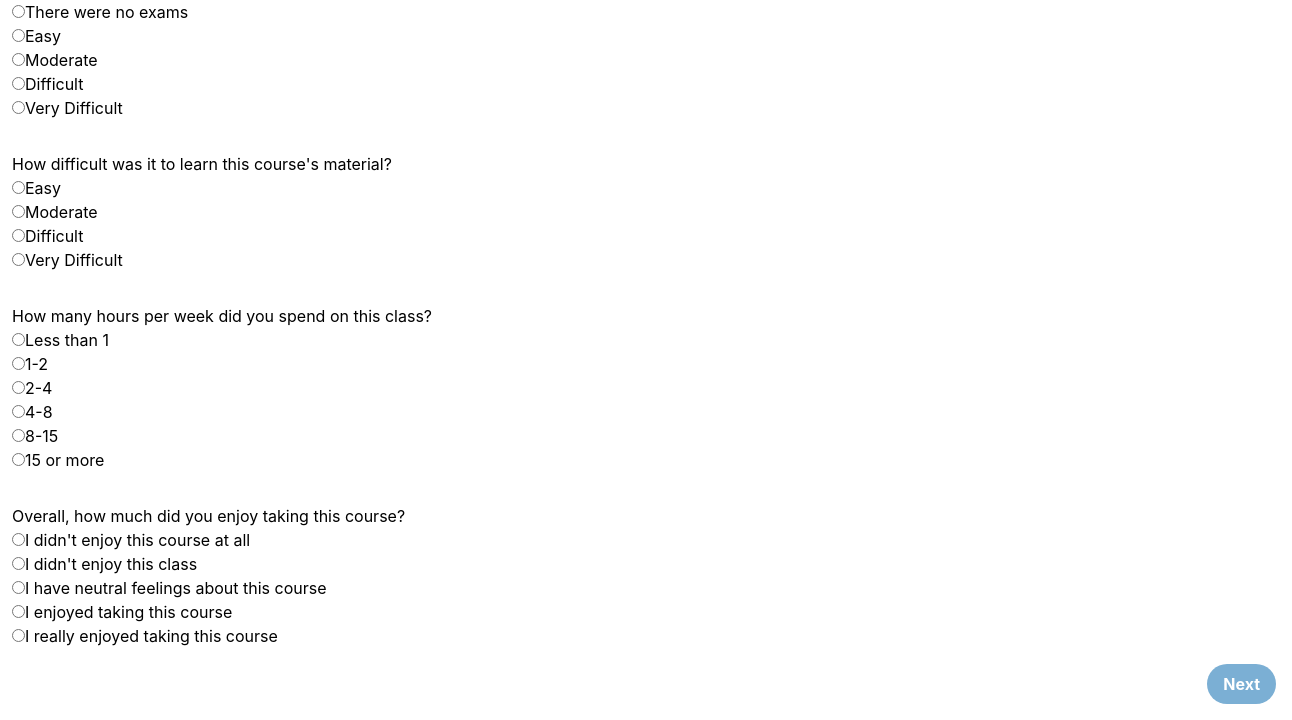
CreateReview Components Tests › Render page three
(page scrolled)
What coordinates should you click on to do the following:
click the button with test id "ReviewNextButton1"
I would click on:
 (1242, 684)
Its box is [1207,664,1276,704].
(page scrolled)
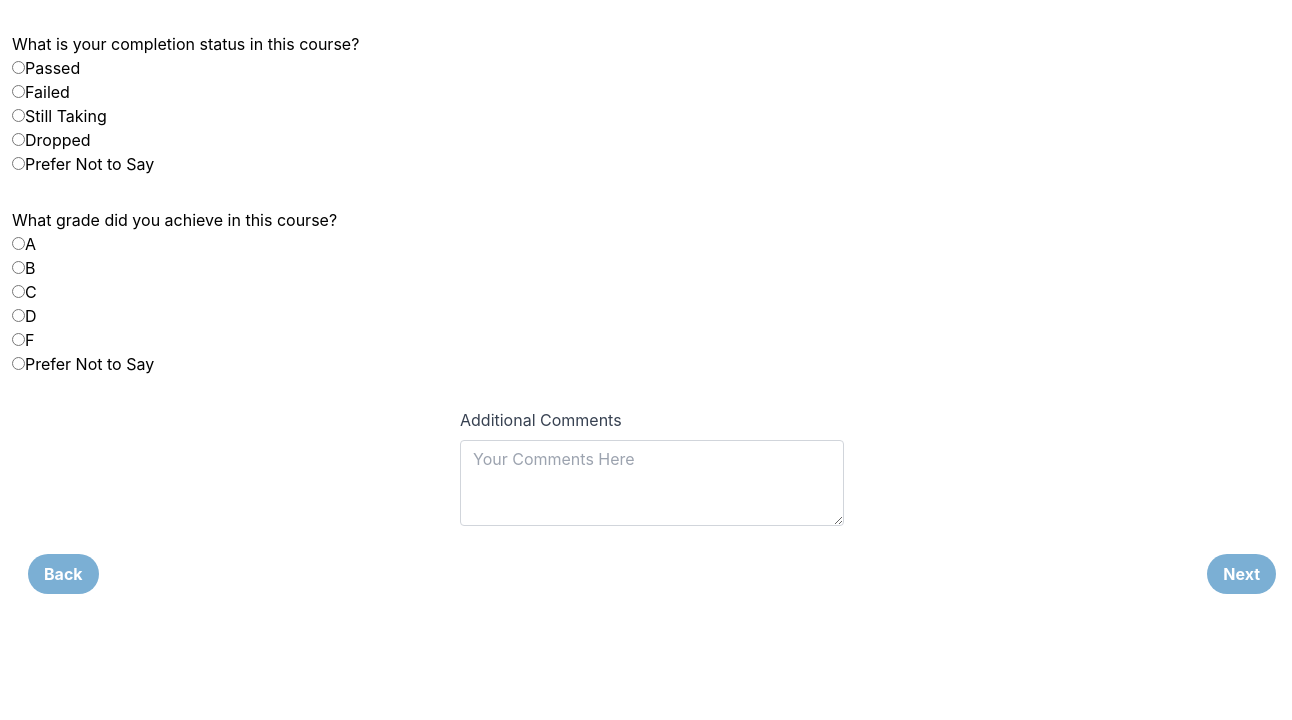
What coordinates should you click on to do the following:
click the button with test id "ReviewNextButton2"
I would click on:
 (1242, 574)
Its box is [1207,554,1276,594].
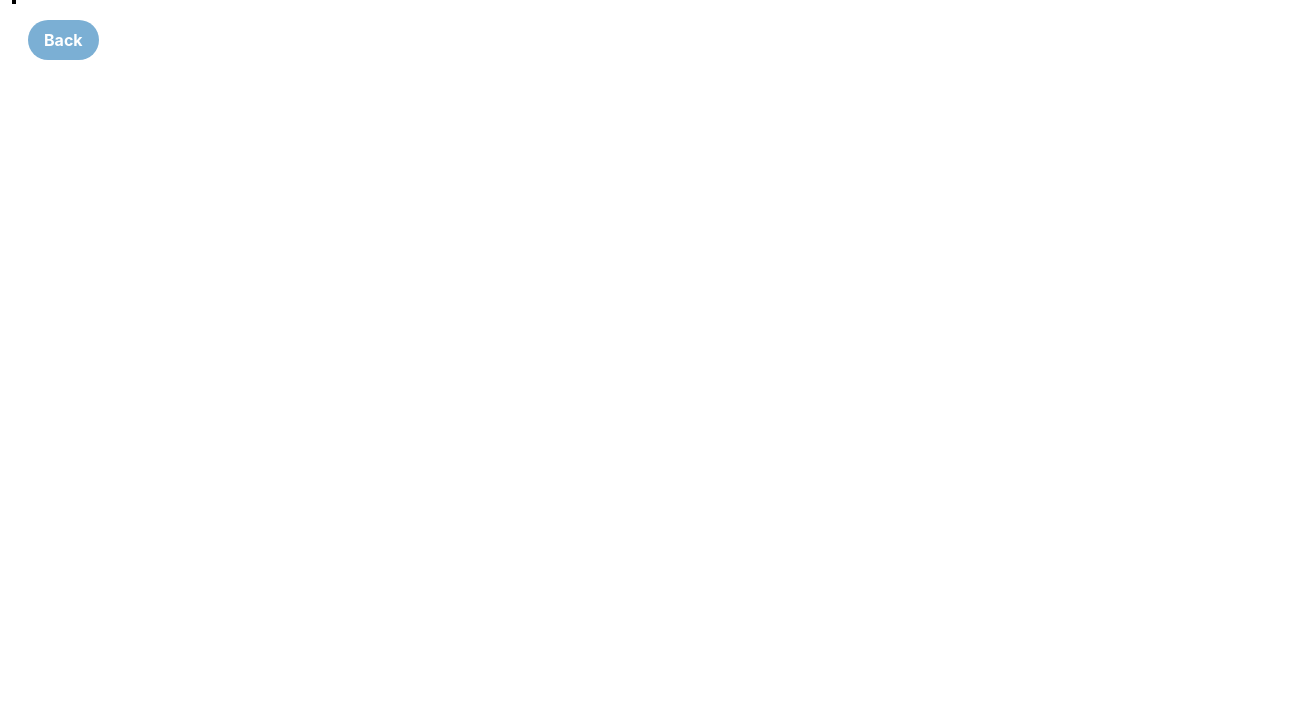
Now the button "Next" is gone
